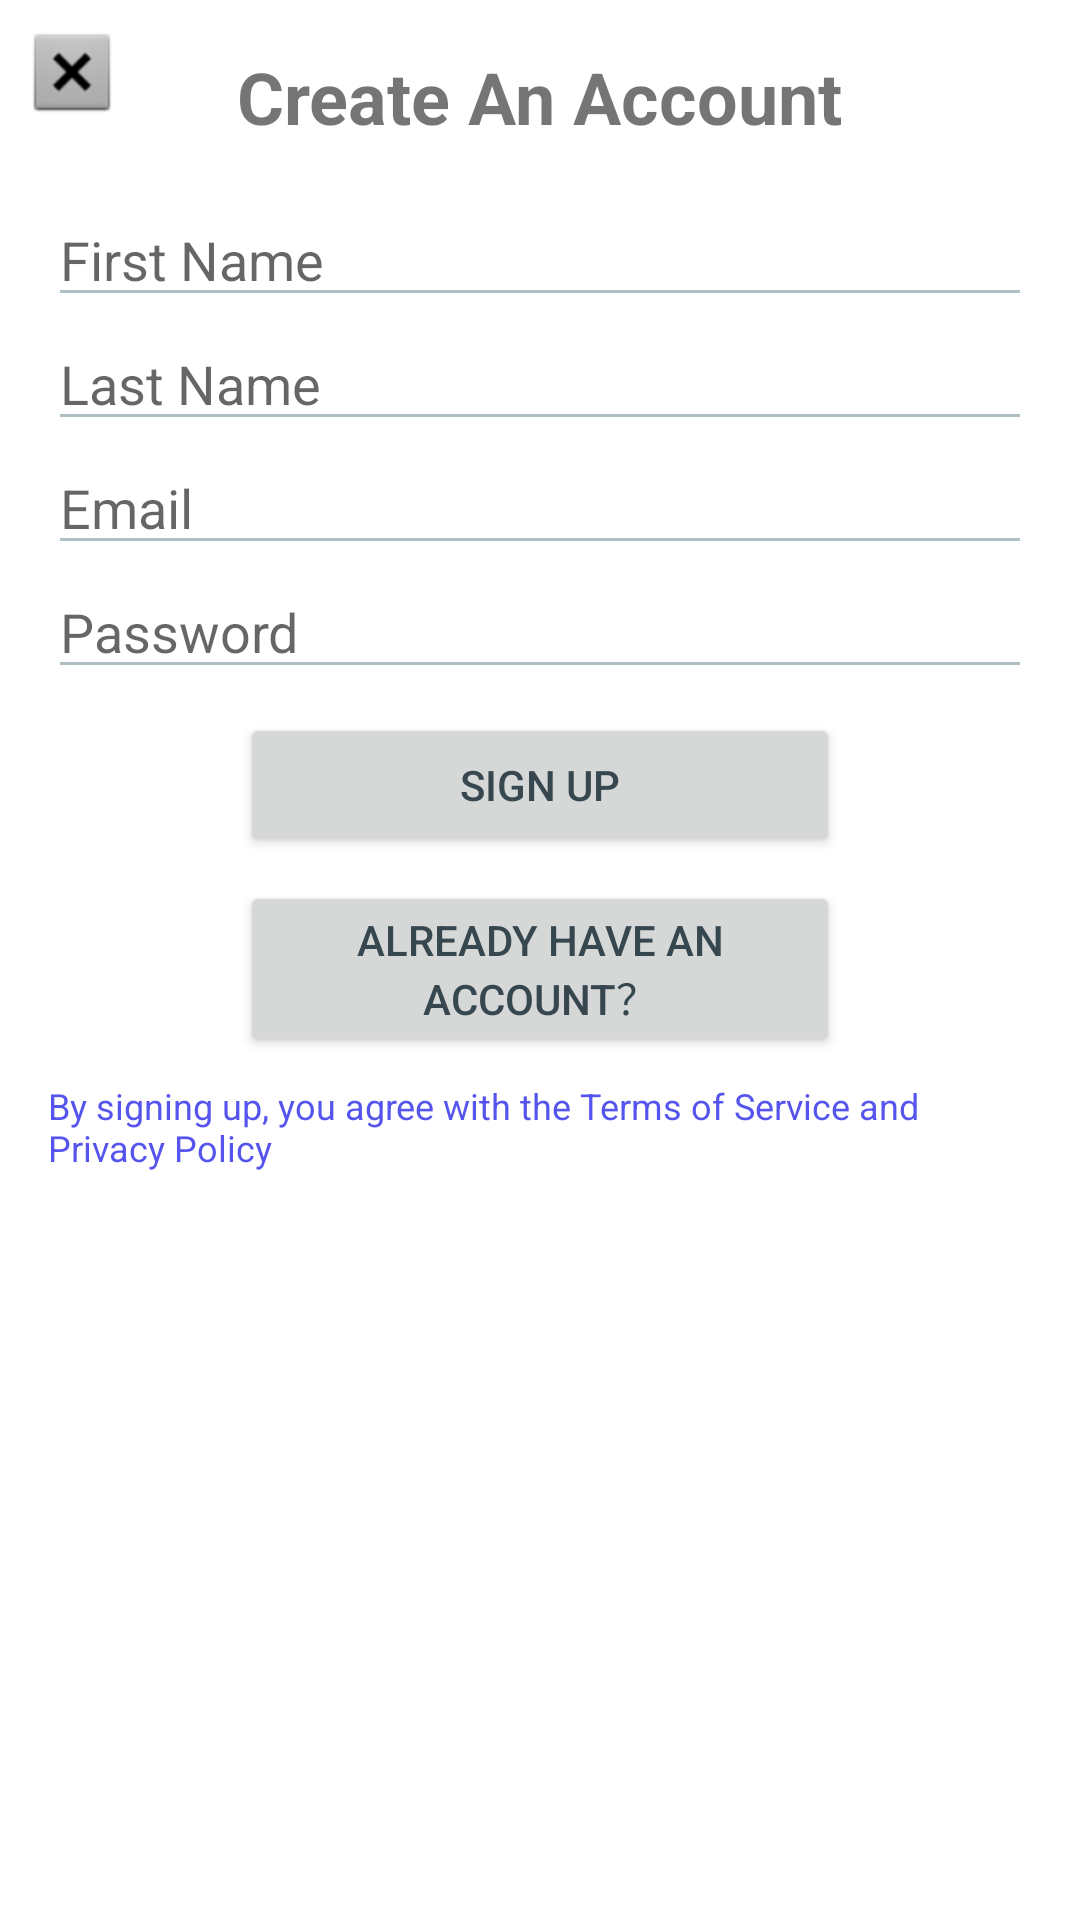

Icons on this 1080w x 1920h Android screen, each with the point to tap as (x,y):
Back: (72,72)
